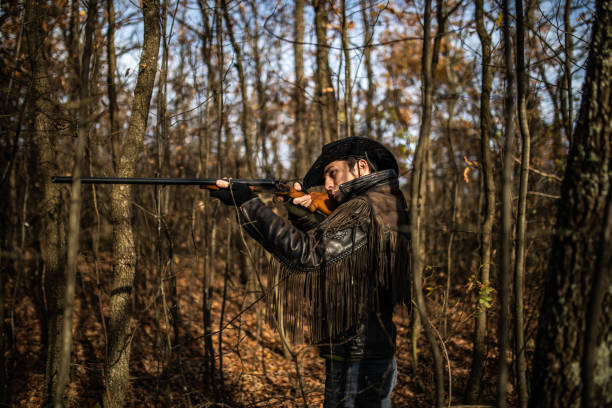gun: (50, 175, 333, 217)
